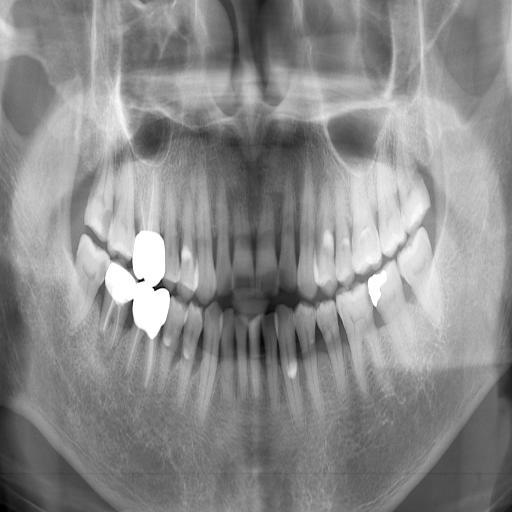Wisdom teeth: (397, 228, 438, 322), (72, 234, 109, 322), (85, 169, 113, 241), (399, 176, 430, 233)
